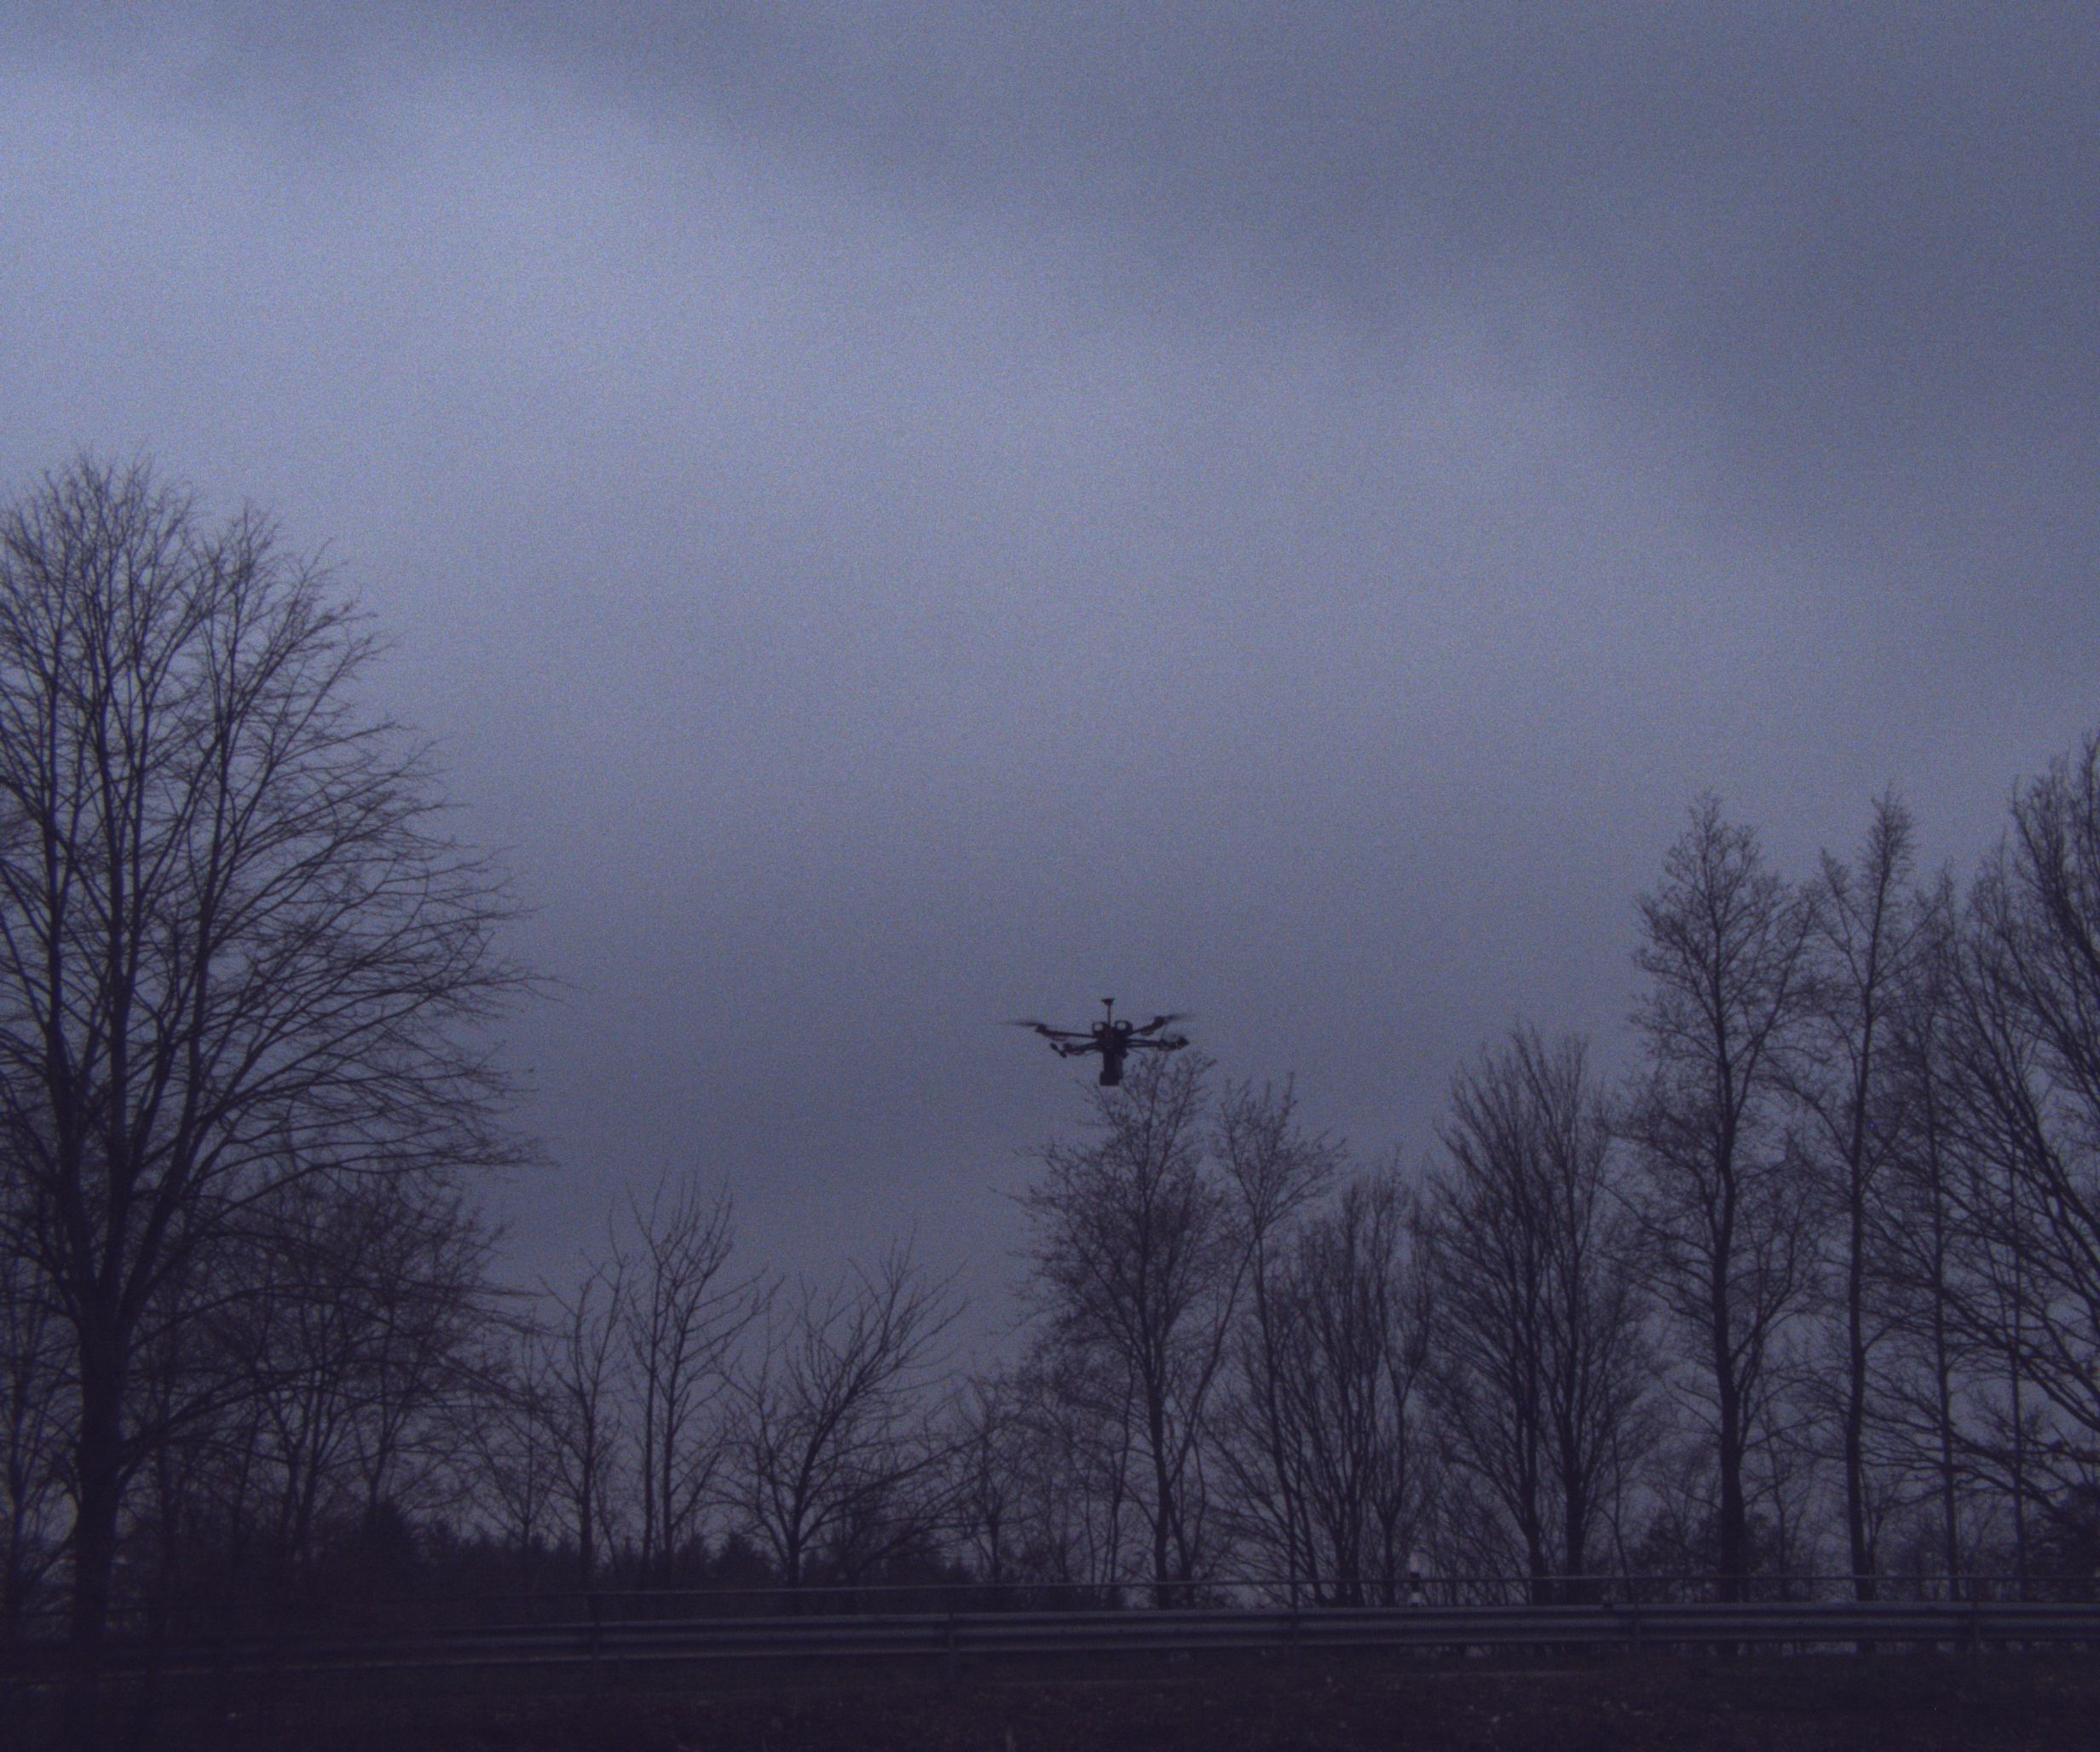Drohne: (970, 962, 1210, 1100)
